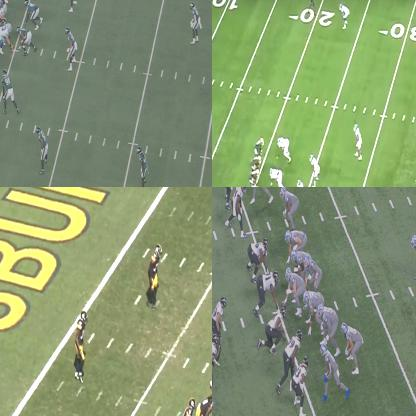CENTER: (286, 269, 302, 309), (1, 21, 15, 51)
DB: (289, 354, 310, 415), (76, 309, 88, 380), (149, 243, 162, 307), (136, 147, 149, 186), (189, 2, 199, 45), (212, 332, 218, 403), (222, 187, 239, 204), (354, 124, 361, 159), (340, 3, 348, 30)
LB: (283, 330, 301, 374), (212, 297, 228, 334), (233, 187, 248, 223), (64, 27, 76, 69), (37, 126, 46, 172), (309, 153, 320, 186), (180, 397, 194, 415), (67, 0, 77, 13), (296, 180, 309, 186)
QB: (306, 255, 322, 289)
SKILL: (320, 342, 350, 399), (342, 323, 363, 374), (281, 187, 300, 224), (197, 391, 211, 415), (251, 187, 269, 204), (410, 233, 415, 292), (254, 138, 266, 156), (309, 0, 317, 16)
